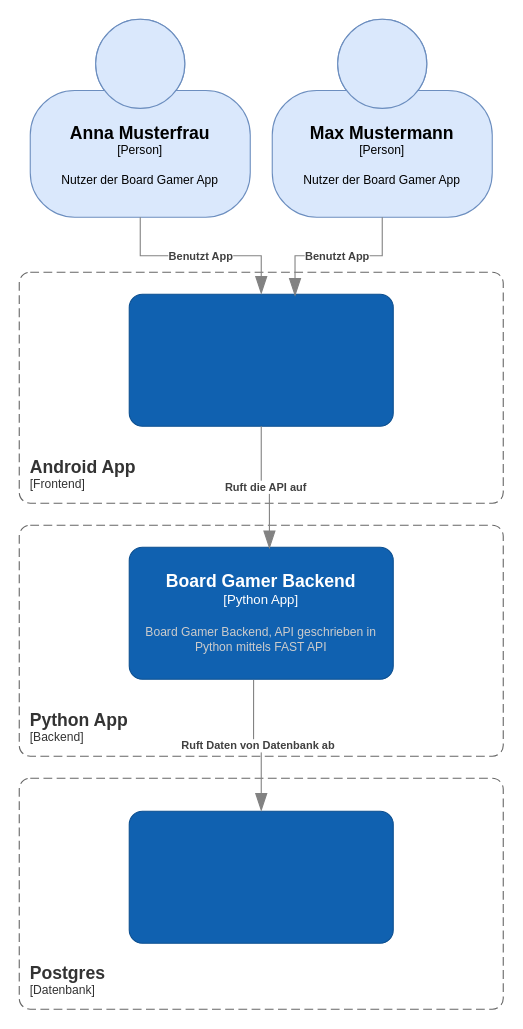
The diagram is 523 pixels wide and 1029 high, and some of its shapes have lost their labels. Each missing label, with the centre of its shape:
"Board Gamer App [Android System] Board Gamer App geschrieben in Kotlin" goes at point (260, 359).
"Board Gamer Datenbank [Postgres] Postgres Datenbank" goes at point (260, 876).
